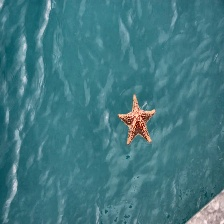starfish: (118, 94, 156, 146)
